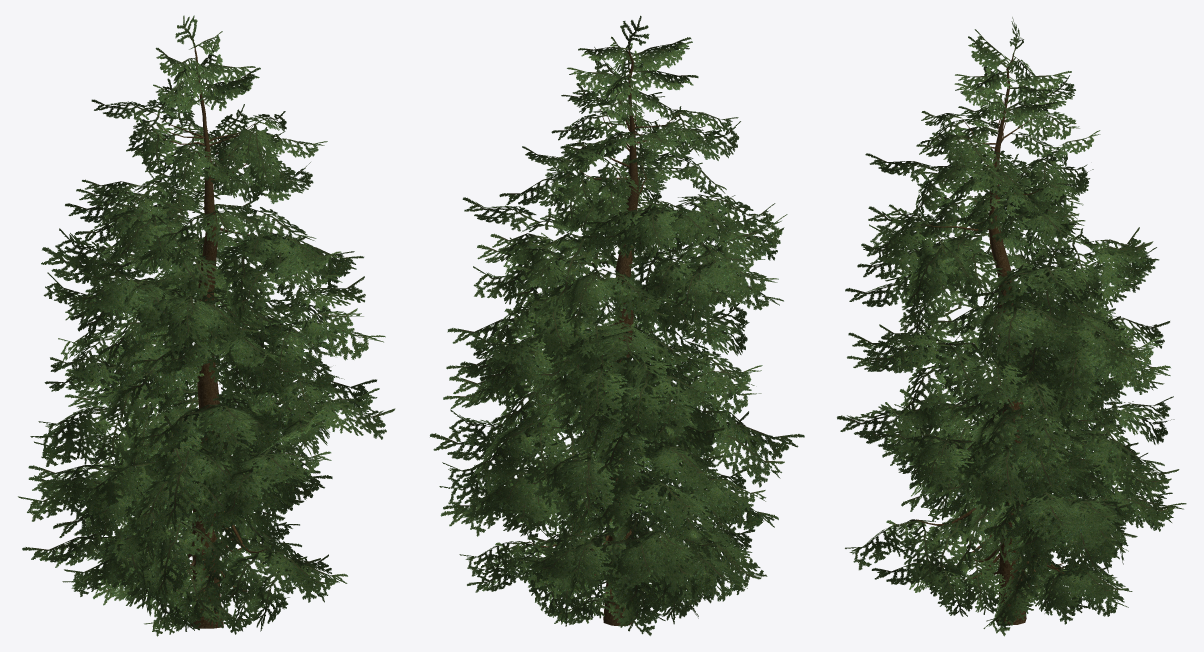
Rendered from w_fir1.glb.
3 views of the same model, side by side, from view 1: azimuth 30°, elevation 25°; view 2: azimuth 150°, elevation 25°; view 3: azimuth 270°, elevation 25° (orthographic). The views are drawn at different scales.
Visible parts, largest first — view 1: body|Brunches_Mat, body|Bark_Mat; view 2: body|Brunches_Mat, body|Bark_Mat; view 3: body|Brunches_Mat, body|Bark_Mat.
Boxes of the visible parts, bbox=[...] form: body|Brunches_Mat: bbox=[18, 15, 395, 636]; body|Bark_Mat: bbox=[154, 46, 272, 628]; body|Brunches_Mat: bbox=[430, 15, 804, 635]; body|Bark_Mat: bbox=[529, 49, 682, 626]; body|Brunches_Mat: bbox=[837, 17, 1186, 636]; body|Bark_Mat: bbox=[916, 54, 1106, 625].
Bounding box in the file's own units: 5.25 × 9.31 × 5.04.
2 materials, 2 textured.
